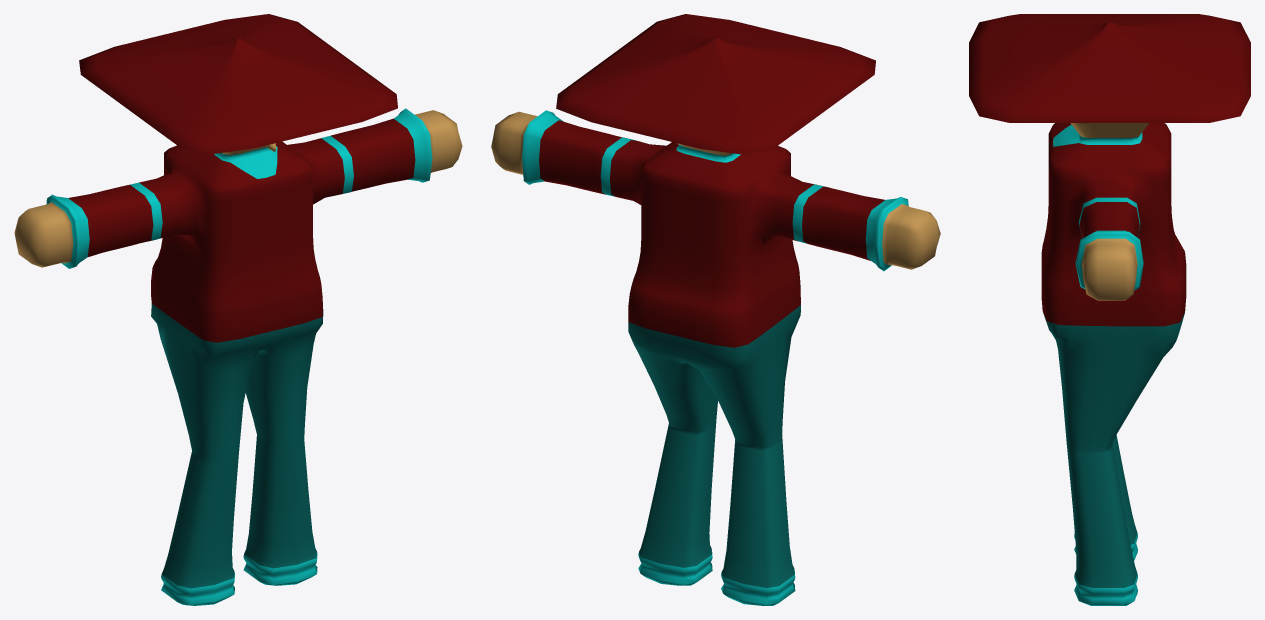
File: enemigo.fbx
The picture shows the model from 3 angles, left to right: view 1: azimuth 30°, elevation 25°; view 2: azimuth 150°, elevation 25°; view 3: azimuth 270°, elevation 25°; orthographic projection.
Parts seen in each view (by area): view 1: pCube4; view 2: pCube4; view 3: pCube4.
Boxes of the visible parts, x1=… form: pCube4: x1=14, y1=14, x2=462, y2=605; pCube4: x1=491, y1=14, x2=940, y2=605; pCube4: x1=969, y1=14, x2=1250, y2=605.
Bounding box in the file's own units: 125 × 150 × 69.59.
